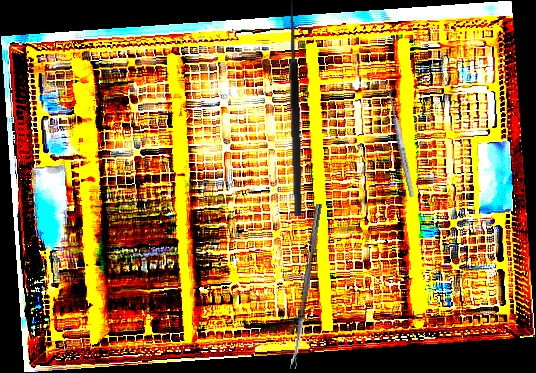Hook Surgical: (275, 0, 305, 217)
Surgical Spoon: (288, 203, 323, 370), (385, 85, 416, 198)
